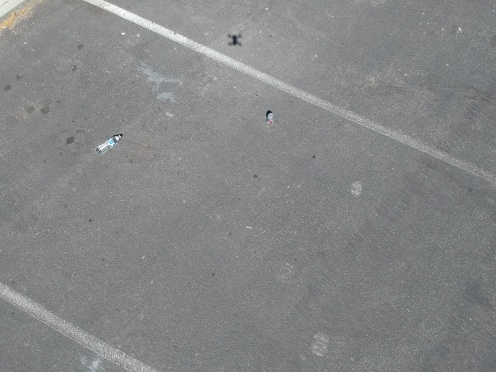bottle: (90, 133, 125, 156)
can: (262, 112, 275, 127)
